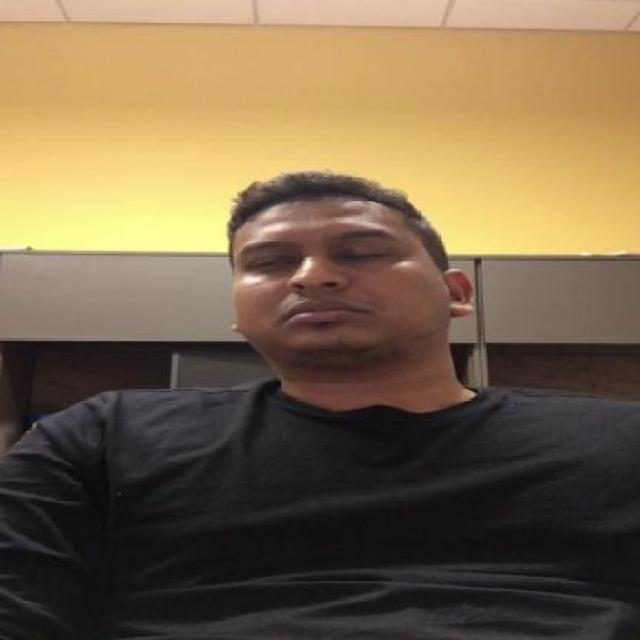drowsy: (343, 248, 394, 264), (250, 255, 296, 272)
